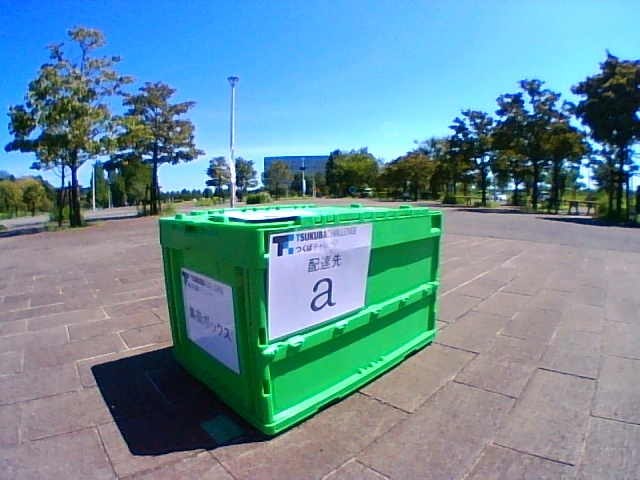green_box: (159, 205, 443, 434)
tag_a: (277, 242, 349, 312)
